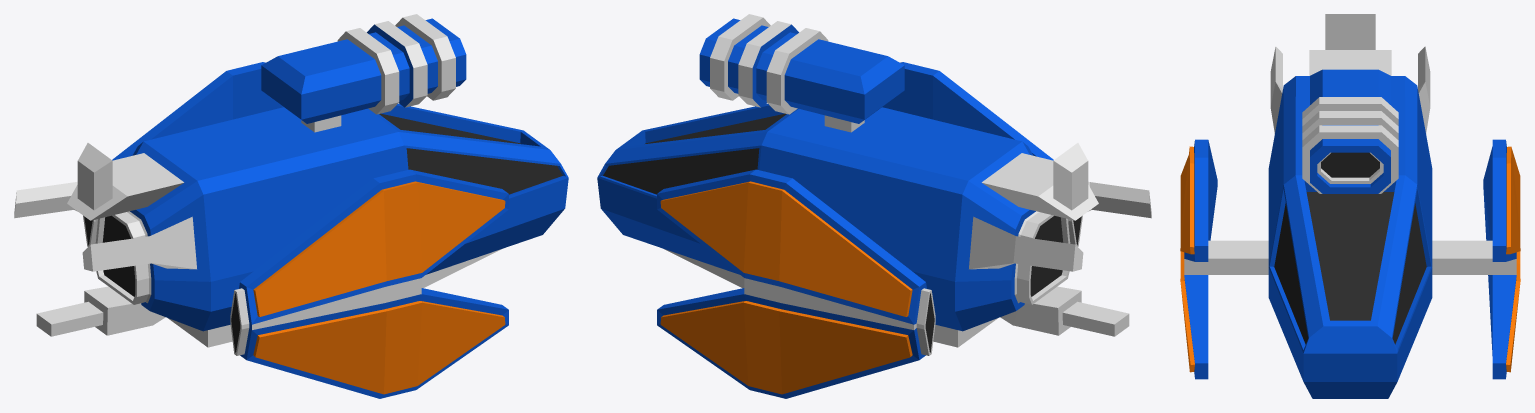
Rendered from Space_Ship2_2.fbx.
3 renders of one model, left to right at view 1: azimuth 30°, elevation 25°; view 2: azimuth 150°, elevation 25°; view 3: azimuth 270°, elevation 25°, orthographic.
Visible parts, largest first — view 1: Space_Ship.002; view 2: Space_Ship.002; view 3: Space_Ship.002.
Boxes of the visible parts, x1=… form: Space_Ship.002: x1=14, y1=14, x2=568, y2=398; Space_Ship.002: x1=597, y1=14, x2=1151, y2=398; Space_Ship.002: x1=1180, y1=14, x2=1520, y2=398.
Size of the model in its own units: 718 by 391 by 416.
